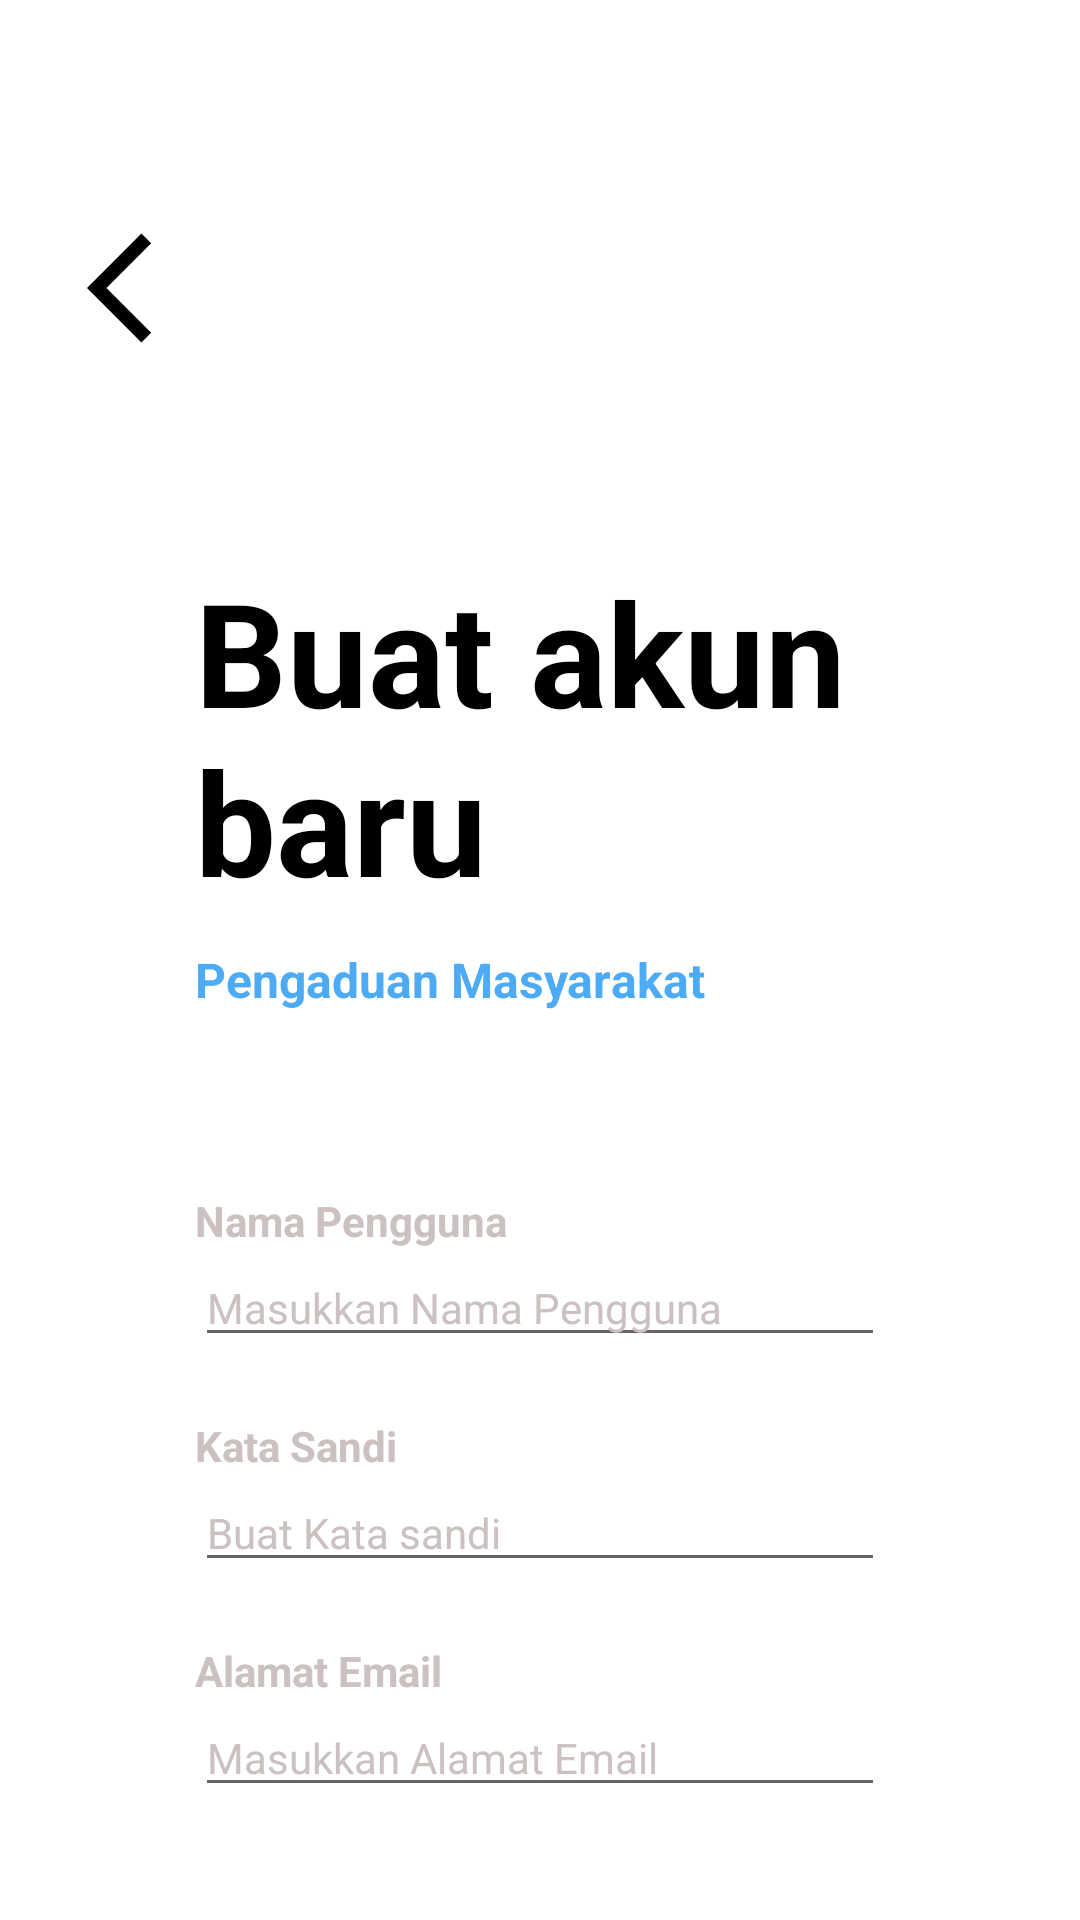

Screen size 1080w x 1920h. Icon name, then its center in pixels as [x,y]:
arrow back: [119,288]
